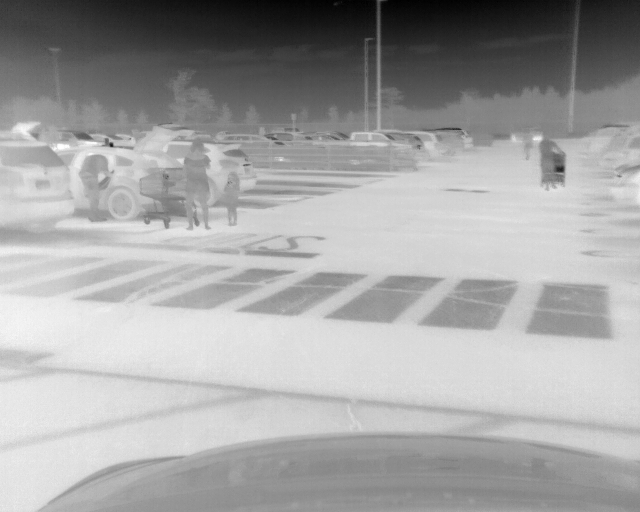car: (61, 148, 188, 220), (146, 138, 257, 207), (1, 141, 74, 234), (350, 129, 429, 170), (600, 127, 640, 167), (611, 164, 640, 205), (416, 130, 448, 160), (446, 125, 476, 154), (510, 127, 544, 143)
people: (76, 154, 114, 222), (186, 139, 211, 230), (538, 133, 563, 191), (221, 173, 241, 228), (520, 130, 534, 159)
